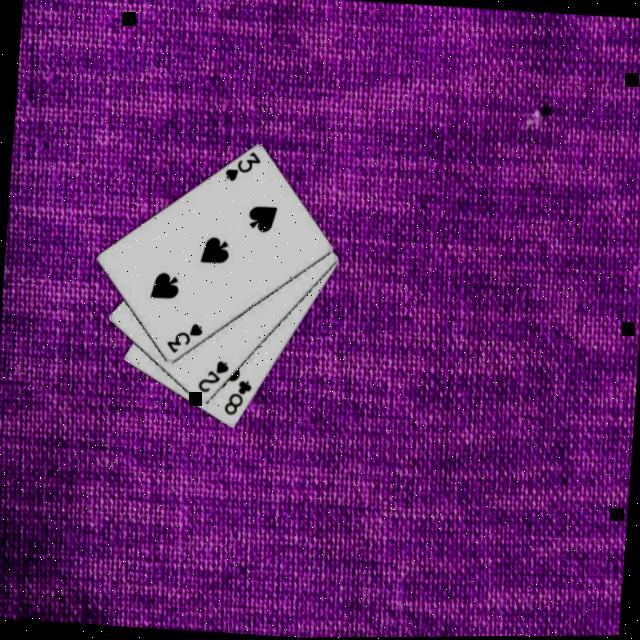2S: (192, 355, 230, 395)
3S: (161, 316, 203, 356), (220, 145, 262, 184)
8C: (219, 374, 253, 417)
